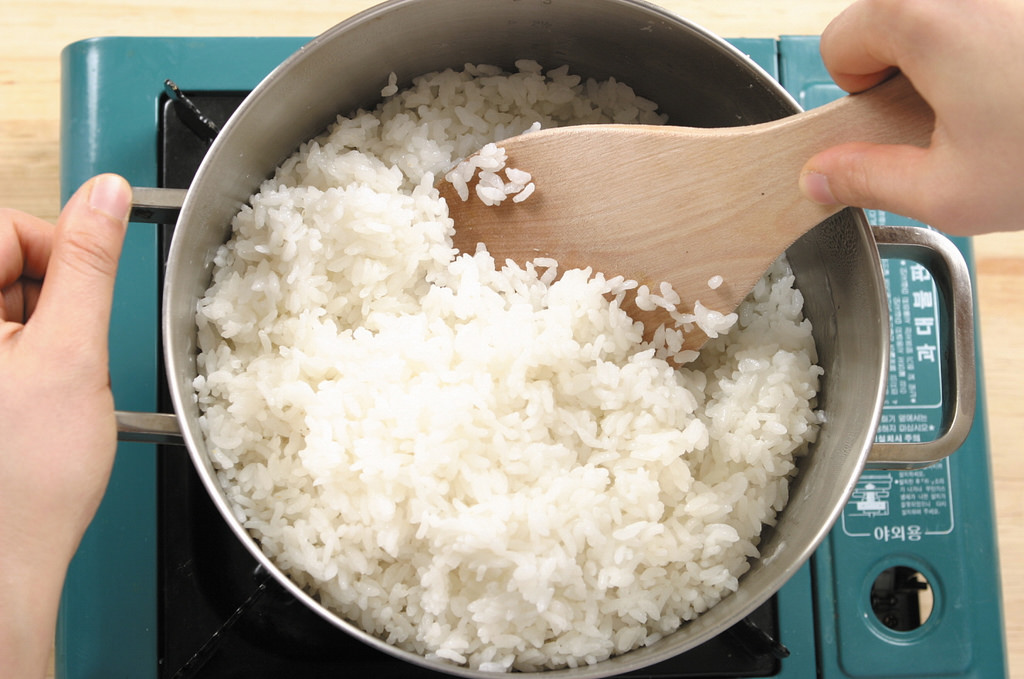rice: (192, 53, 841, 669)
